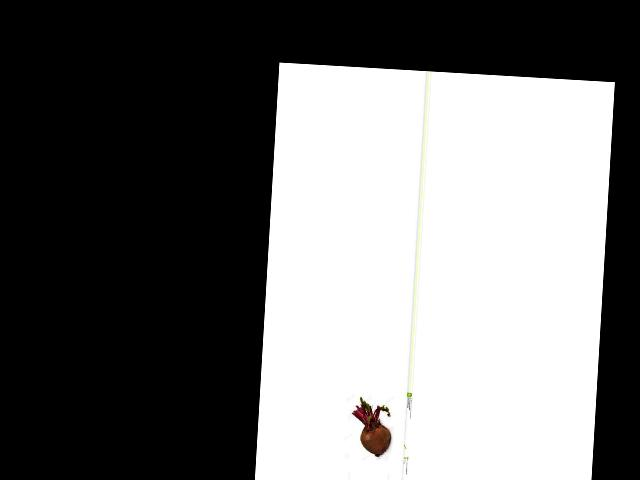beet: (350, 397, 392, 457)
